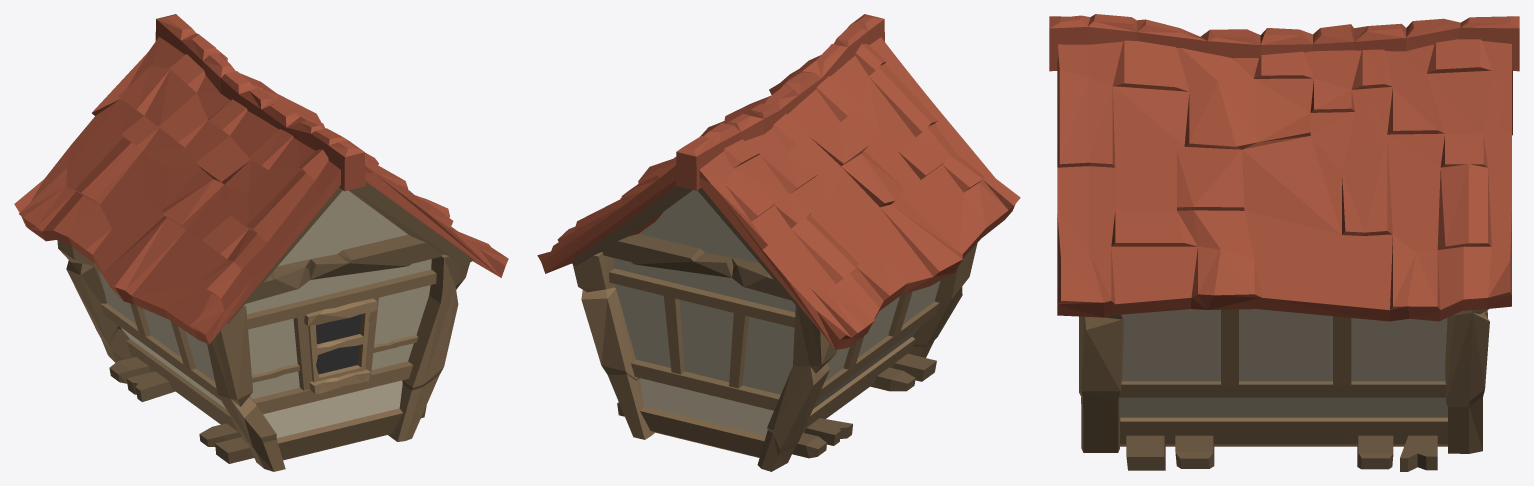
The model's file is SM_Bld_House_TopRoomSmall_05.glb.
3 renders of one model, left to right at view 1: azimuth 30°, elevation 25°; view 2: azimuth 150°, elevation 25°; view 3: azimuth 270°, elevation 25°, orthographic. The views are drawn at different scales.
Visible parts, largest first — view 1: SM_Bld_House_TopRoomSmall_05; view 2: SM_Bld_House_TopRoomSmall_05; view 3: SM_Bld_House_TopRoomSmall_05.
Part boxes in pixels (box(x1,y1,x2,y2)): SM_Bld_House_TopRoomSmall_05: box(14, 14, 508, 471); SM_Bld_House_TopRoomSmall_05: box(537, 14, 1020, 471); SM_Bld_House_TopRoomSmall_05: box(1049, 14, 1519, 471).
Size of the model in its own units: 4.68 by 4.29 by 4.67.
1 material, 1 textured.
